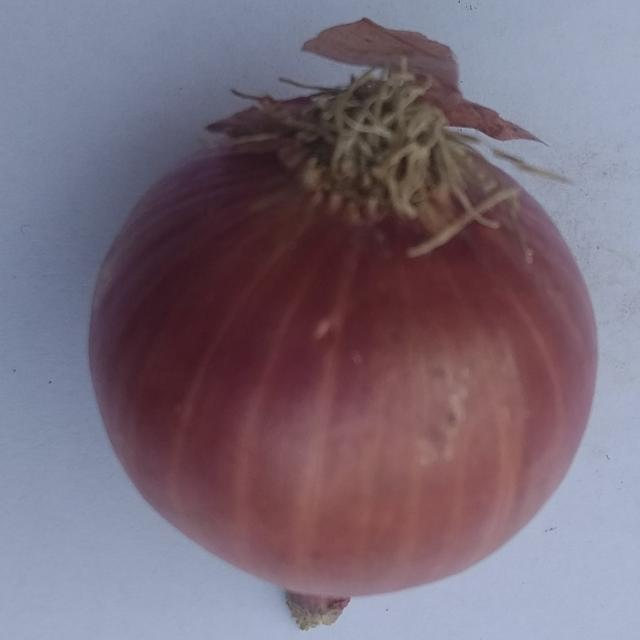onion: (84, 15, 602, 630)
